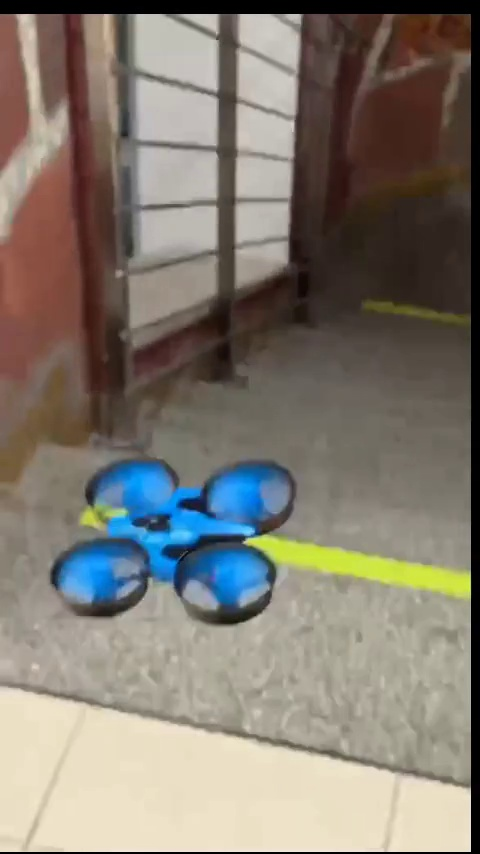drone: (59, 458, 292, 617)
